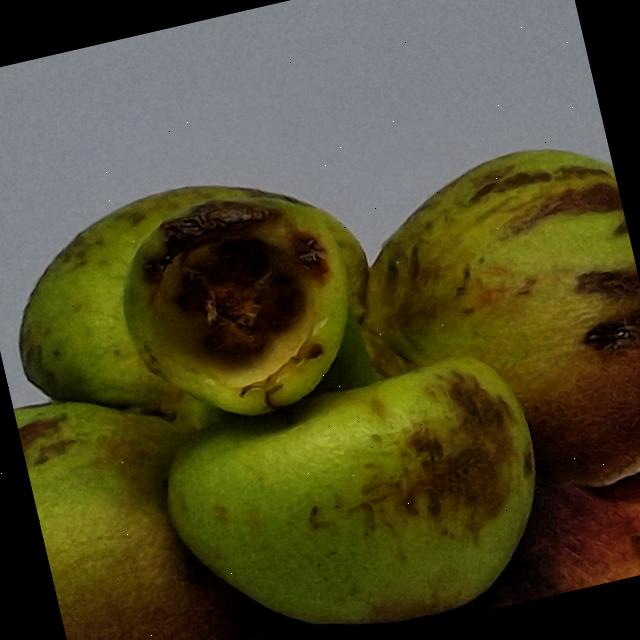mangosteen: (0, 19, 640, 640)
